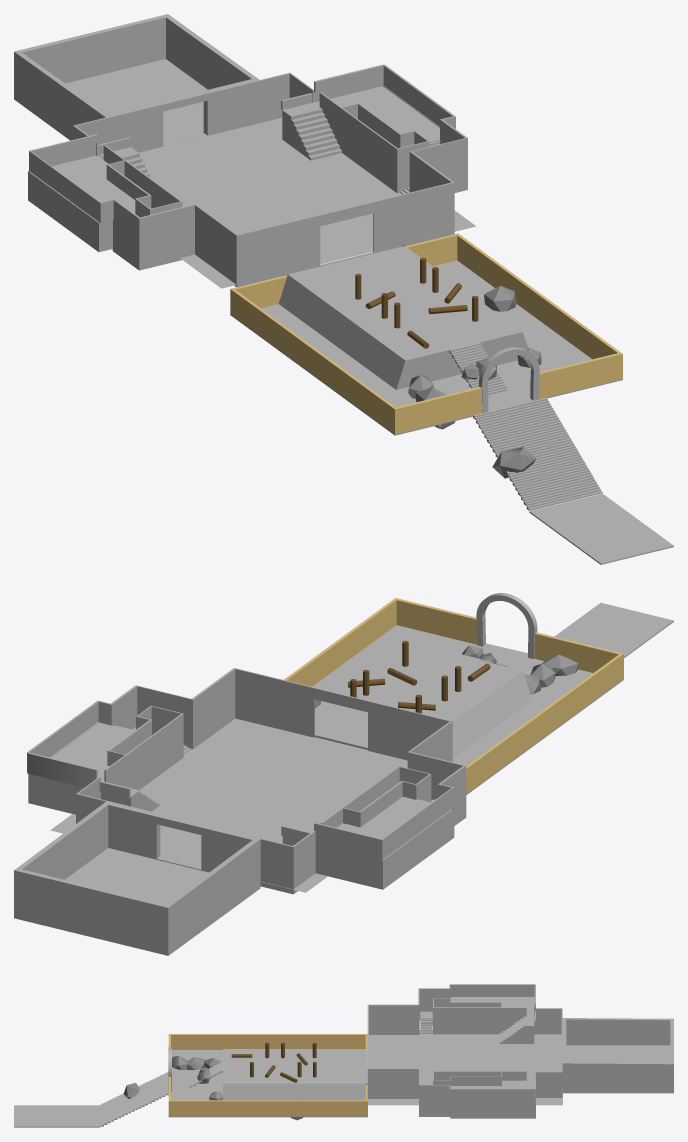
The model's file is lvl3_blockout.fbx.
3 renders of one model, top to bottom at view 1: azimuth 30°, elevation 25°; view 2: azimuth 150°, elevation 25°; view 3: azimuth 270°, elevation 25°, orthographic. The views are drawn at different scales.
Parts seen in each view (by area): view 1: Walls_Second_Area, Floor, Last_Room, Floor_Second_Area_Up, Walls_First_Area, Walls, Stairs, Floor_Second_Area, Floor_First_Area, Floor_L, Floor_R, Stair_1 (+2 smaller); view 2: Last_Room, Walls_Second_Area, Floor, Floor_Second_Area_Up, Walls_First_Area, Walls, Floor_Second_Area, Floor_L, Floor_R, Floor_First_Area, Arch, Stair_1; view 3: Last_Room, Floor, Walls_Second_Area, Floor_Second_Area_Up, Walls_First_Area, Walls, Floor_Second_Area, Stairs, Floor_First_Area, Floor_R, Floor_L, Stair_2.
Boxes of the visible parts, <box> form: Walls_Second_Area: <box>29,64,467,287</box>; Floor: <box>139,118,476,288</box>; Last_Room: <box>14,14,259,145</box>; Floor_Second_Area_Up: <box>278,246,528,389</box>; Walls_First_Area: <box>230,233,622,434</box>; Walls: <box>73,72,429,217</box>; Stairs: <box>400,141,602,510</box>; Floor_Second_Area: <box>230,260,622,435</box>; Floor_First_Area: <box>529,493,673,564</box>; Floor_L: <box>28,155,135,252</box>; Floor_R: <box>315,86,440,148</box>; Stair_1: <box>282,102,341,160</box>; Last_Room: <box>14,801,260,955</box>; Walls_Second_Area: <box>27,668,466,859</box>; Floor: <box>50,718,466,892</box>; Floor_Second_Area_Up: <box>315,643,531,758</box>; Walls_First_Area: <box>284,598,623,793</box>; Walls: <box>76,705,431,894</box>; Floor_Second_Area: <box>312,625,623,794</box>; Floor_L: <box>315,796,454,889</box>; Floor_R: <box>28,722,134,814</box>; Floor_First_Area: <box>554,602,673,657</box>; Arch: <box>476,593,537,659</box>; Stair_1: <box>101,788,159,811</box>; Last_Room: <box>562,1018,673,1093</box>; Floor: <box>368,1030,562,1105</box>; Walls_Second_Area: <box>367,984,535,1116</box>; Floor_Second_Area_Up: <box>223,1049,365,1100</box>; Walls_First_Area: <box>168,1034,367,1116</box>; Walls: <box>433,998,562,1097</box>; Floor_Second_Area: <box>168,1050,367,1117</box>; Stairs: <box>100,1011,432,1126</box>; Floor_First_Area: <box>14,1105,100,1127</box>; Floor_R: <box>450,1080,535,1118</box>; Floor_L: <box>450,997,535,1034</box>; Stair_2: <box>499,1016,534,1043</box>.
Bounding box in the file's own units: 115 × 40.95 × 305.
